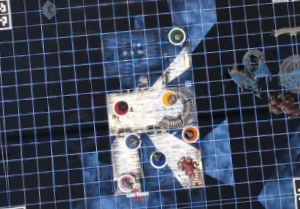blue: (146, 147, 168, 171)
green: (163, 25, 187, 48)
orange: (178, 122, 201, 144)
pink: (111, 172, 139, 194)
red: (110, 96, 132, 117)
violet: (121, 129, 143, 152)
yellow: (159, 88, 183, 109)
